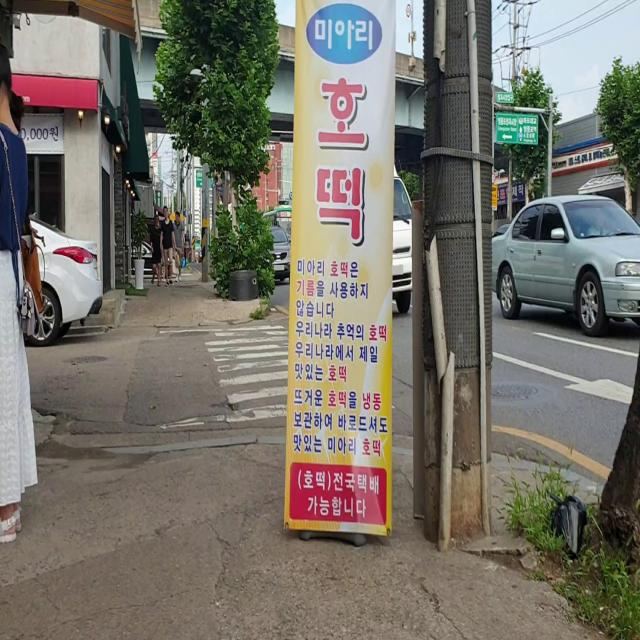횡단보도: (157, 326, 289, 432)
